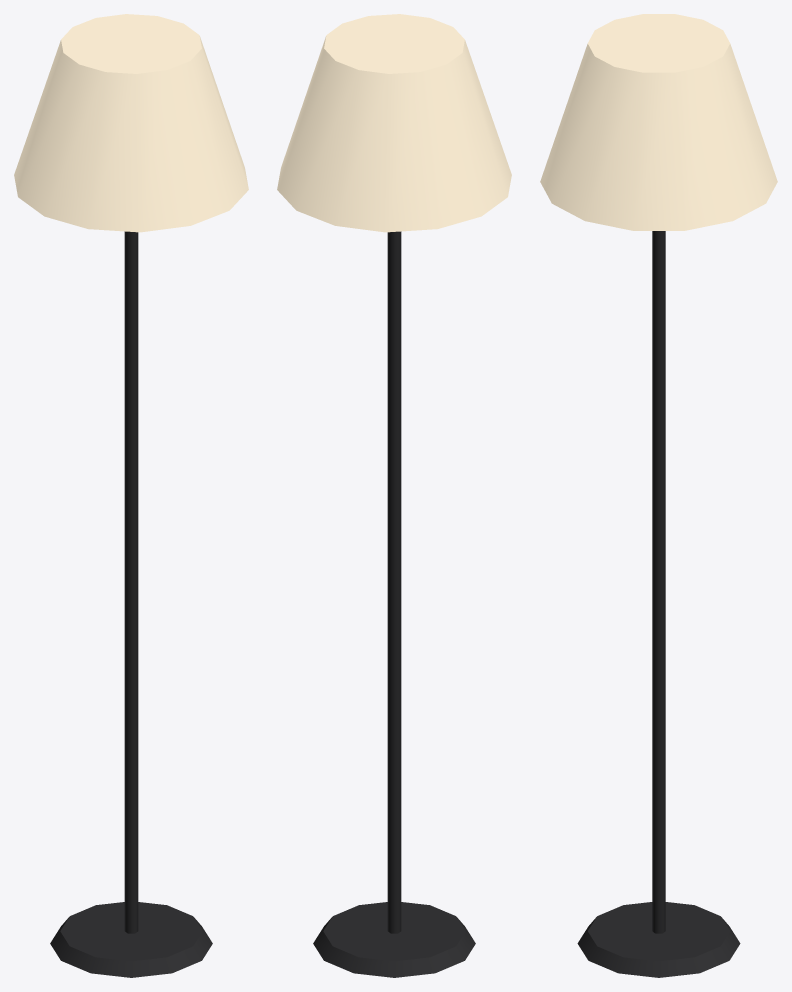
File: lamp-foyer.glb
3 views of the same model, side by side, from view 1: azimuth 30°, elevation 25°; view 2: azimuth 150°, elevation 25°; view 3: azimuth 270°, elevation 25° (orthographic).
Visible parts, largest first — view 1: lamp-foyer; view 2: lamp-foyer; view 3: lamp-foyer.
Boxes of the visible parts, x1,y1,x2,y2 form: lamp-foyer: (14,14,248,977); lamp-foyer: (277,14,511,977); lamp-foyer: (540,14,777,977).
Size of the model in its own units: 1.36 by 5.85 by 1.4.
